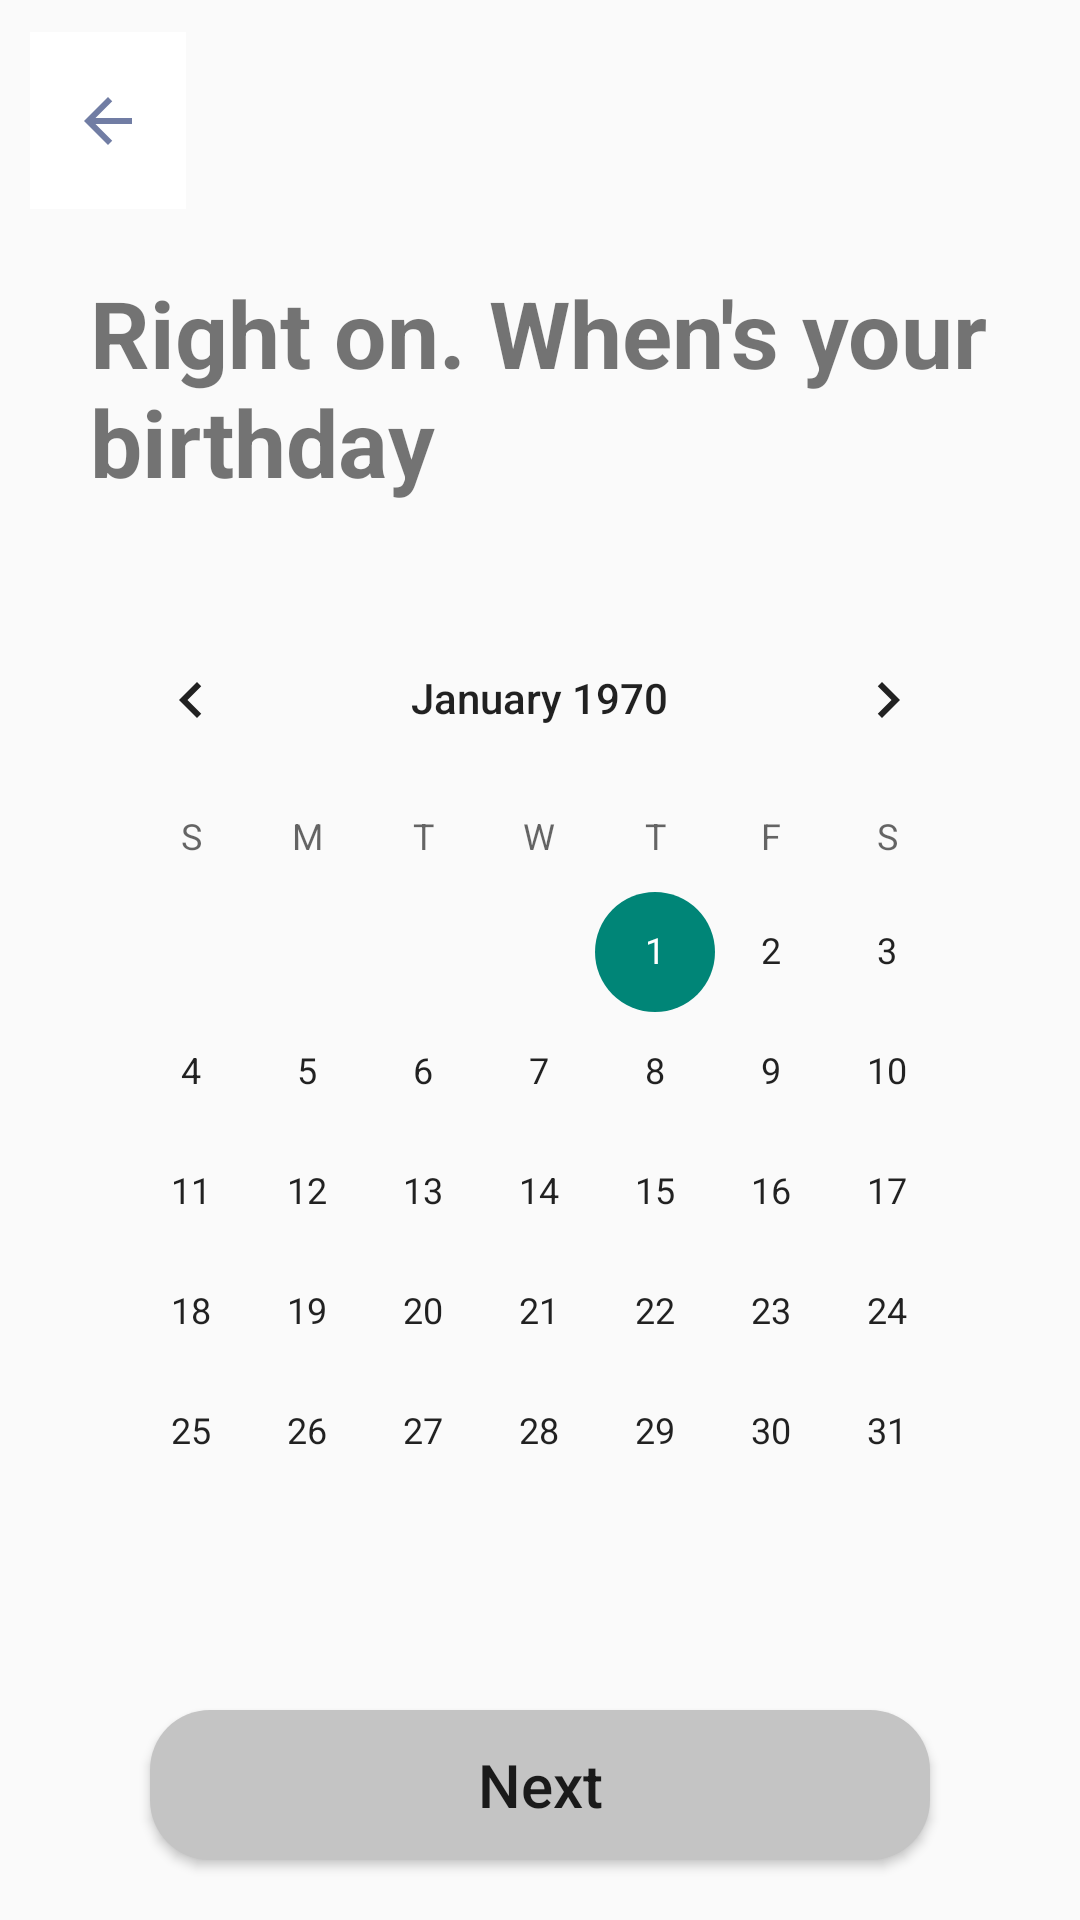

Icons on this 1080 × 1920 Android screen, each with the point to tap as point (x, y):
arrow back: point (108, 121)
